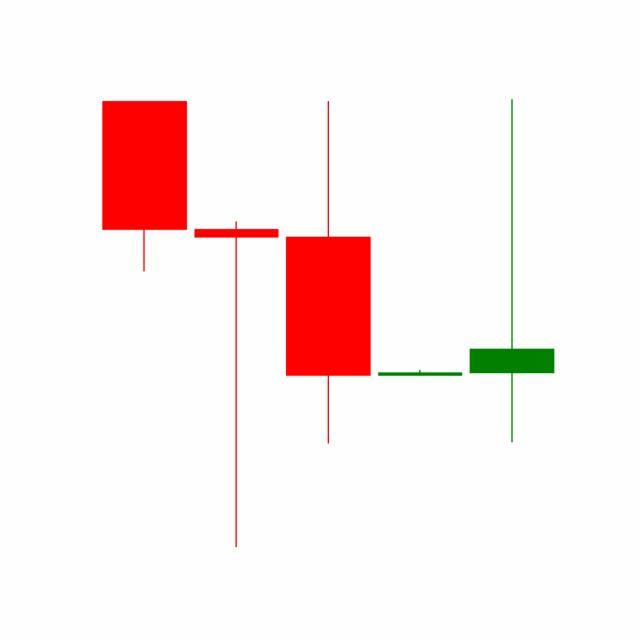Spinning Top: (466, 96, 559, 447)
